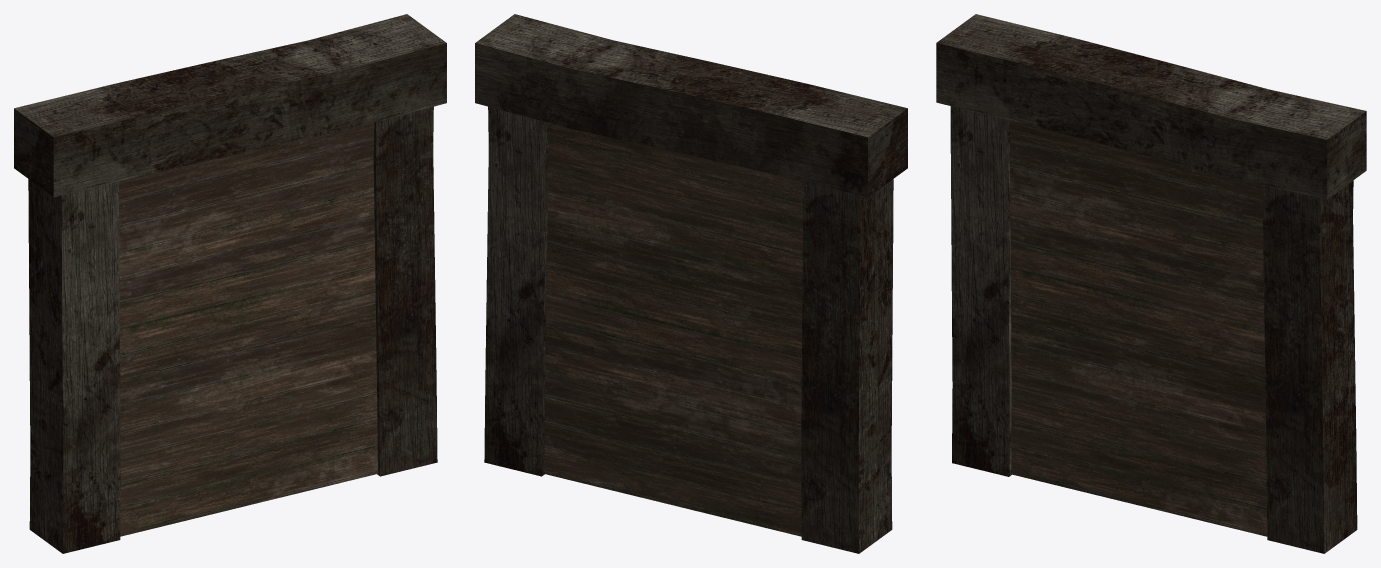
File: WoodWall3.fbx
The picture shows the model from 3 angles, left to right: view 1: azimuth 30°, elevation 25°; view 2: azimuth 150°, elevation 25°; view 3: azimuth 330°, elevation 25°; orthographic projection.
Parts seen in each view (by area): view 1: Wood Wall 2m; view 2: Wood Wall 2m; view 3: Wood Wall 2m.
Part boxes in pixels (<box>): Wood Wall 2m: <box>14,14,446,553</box>; Wood Wall 2m: <box>475,14,907,553</box>; Wood Wall 2m: <box>936,14,1366,553</box>.
Size of the model in its own units: 232 by 238 by 40.57.
